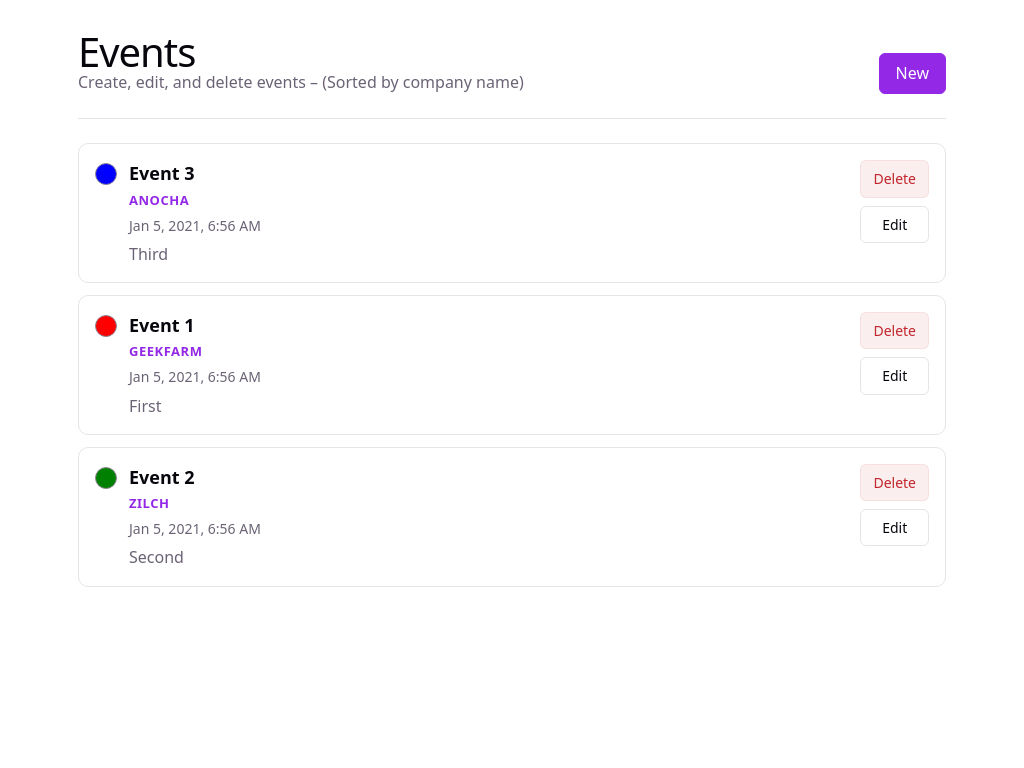
Scenario: focus management › starts on the first field and returns focus to the opener on close
Click the button "New".
click(912, 74)  # box [878, 53, 946, 94]
(page scrolled)
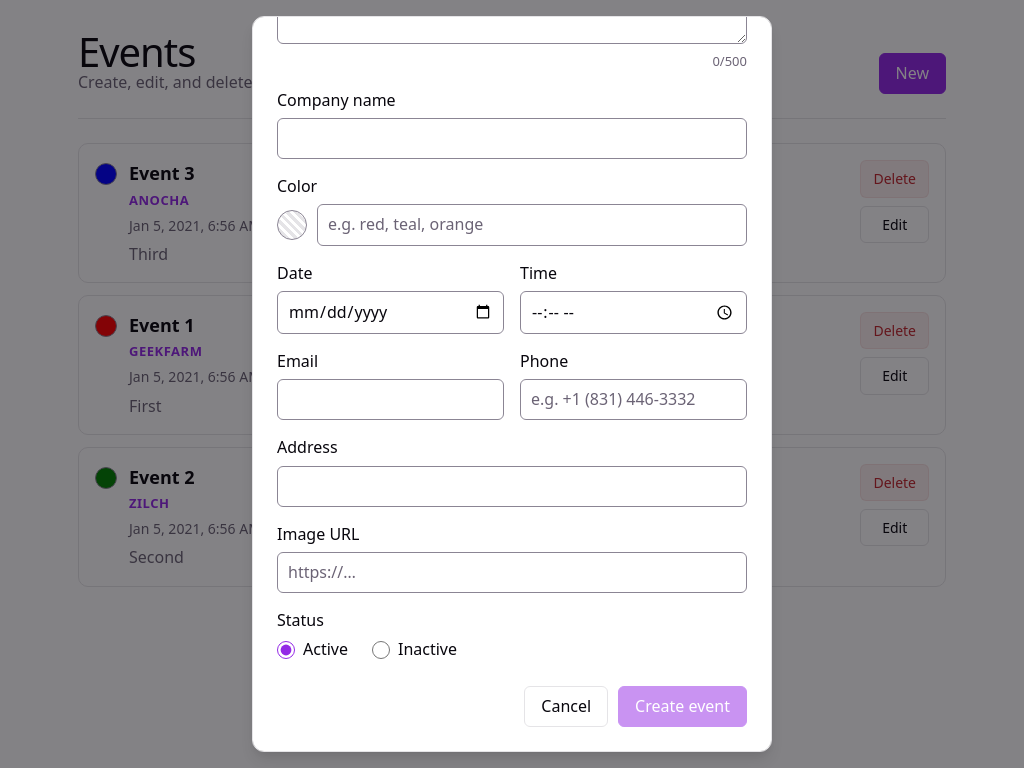
Click the button "Cancel".
click(566, 706)  # box [524, 686, 608, 727]
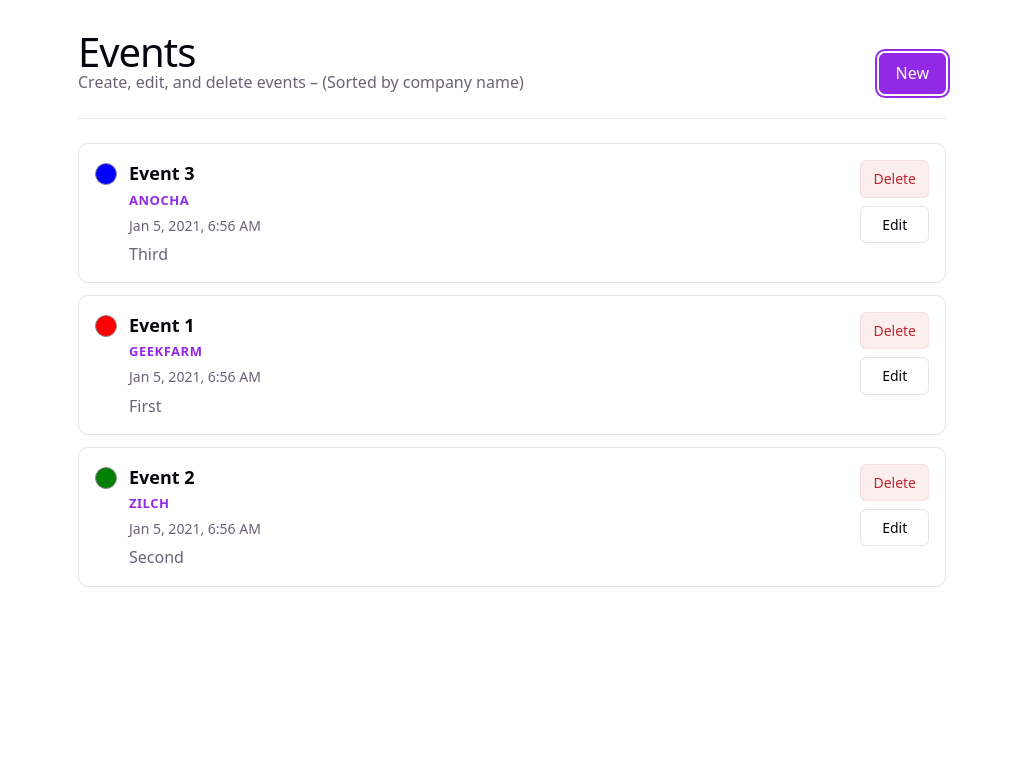
Check: the dialog is gone
